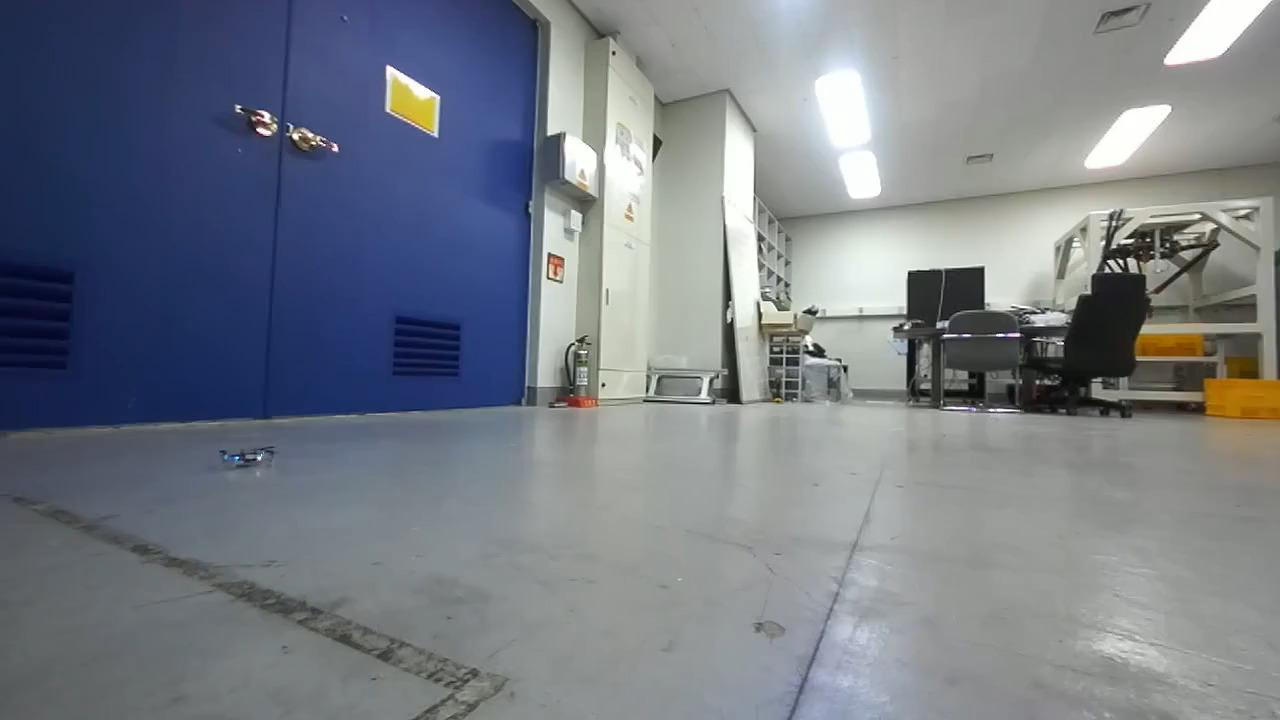crazyflie: (211, 440, 276, 474)
